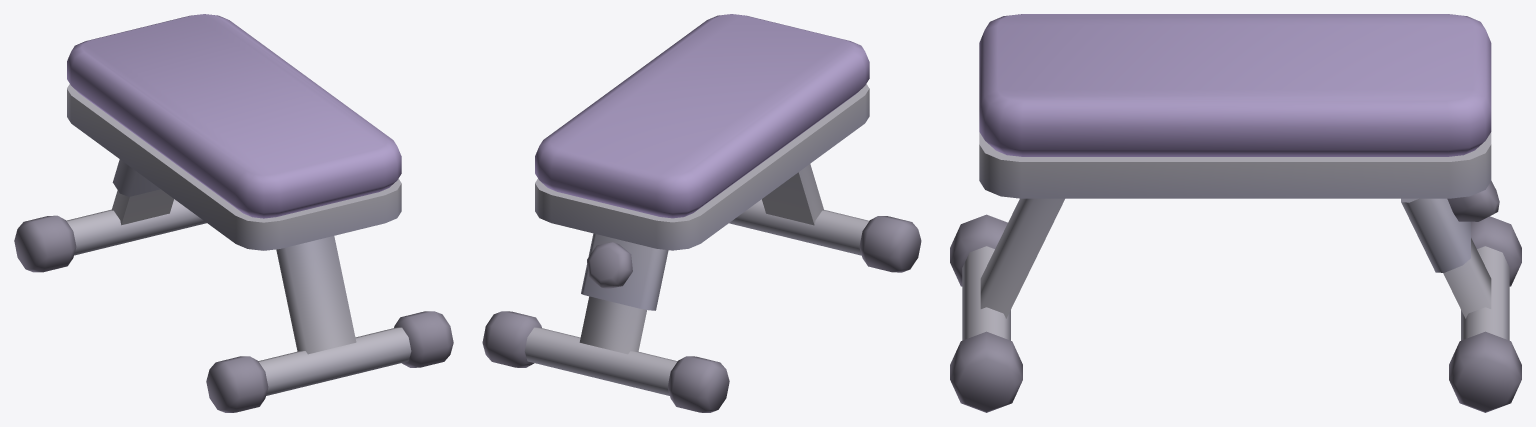
Rendered from fitness-bench.glb.
3 renders of one model, left to right at view 1: azimuth 30°, elevation 25°; view 2: azimuth 150°, elevation 25°; view 3: azimuth 270°, elevation 25°, orthographic. The views are drawn at different scales.
Parts seen in each view (by area): view 1: fitness-bench; view 2: fitness-bench; view 3: fitness-bench.
Boxes of the visible parts, x1,y1,x2,y2 form: fitness-bench: [14, 14, 453, 412]; fitness-bench: [482, 14, 921, 412]; fitness-bench: [950, 14, 1521, 412].
Bounding box in the file's own units: 0.4451 × 0.4208 × 0.7537.
